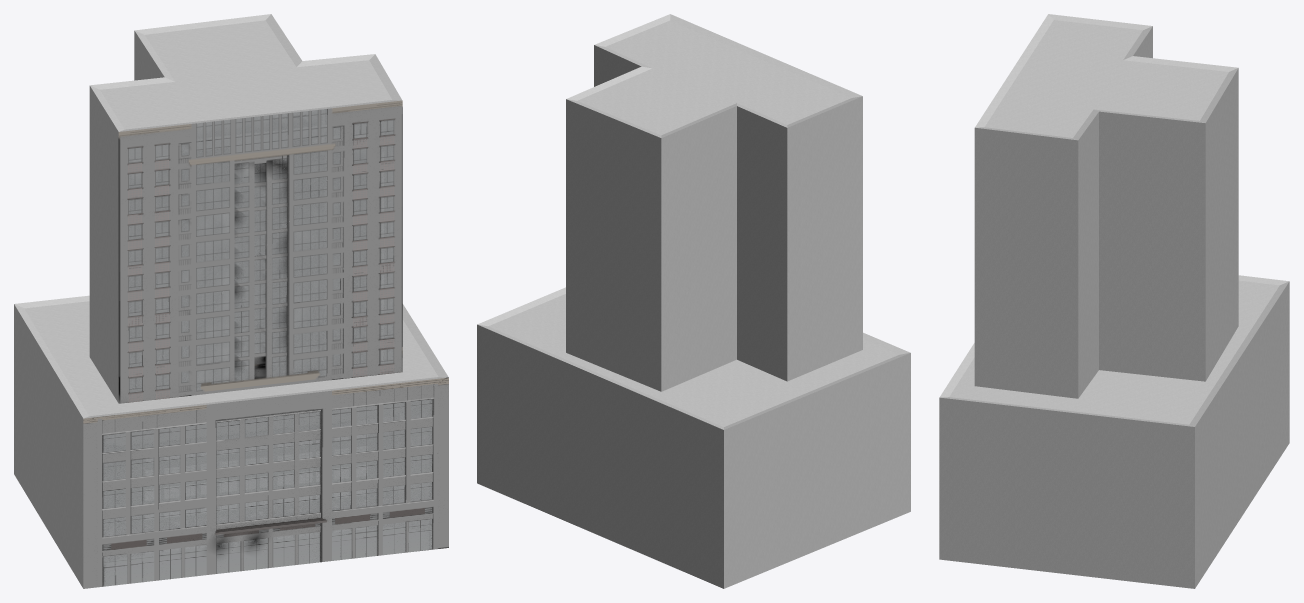
File: bangonglou2.gltf
The picture shows the model from 3 angles, left to right: view 1: azimuth 30°, elevation 25°; view 2: azimuth 150°, elevation 25°; view 3: azimuth 270°, elevation 25°; orthographic projection. The views are drawn at different scales.
Visible parts, largest first — view 1: Line3117657; view 2: Line3117657; view 3: Line3117657.
Part boxes in pixels (bbox=[...]): Line3117657: bbox=[14, 14, 448, 588]; Line3117657: bbox=[477, 14, 910, 588]; Line3117657: bbox=[939, 14, 1289, 588].
Size of the model in its own units: 240 by 266 by 201.
Materials: 3 (3 with a texture image).
